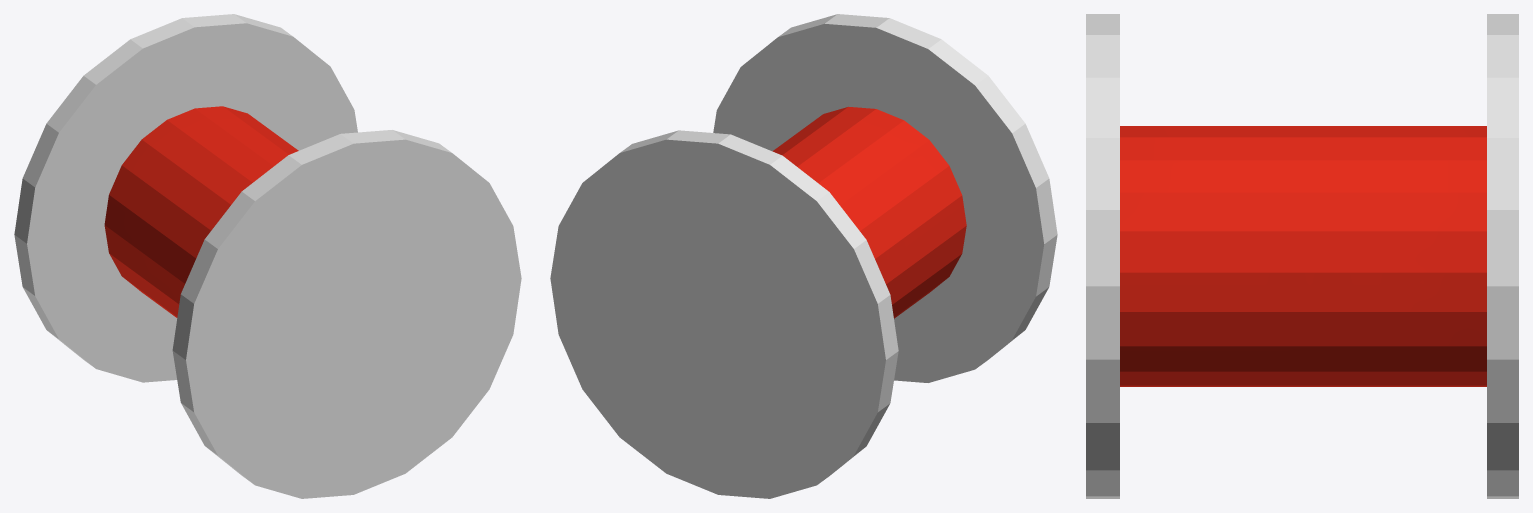
File: élément plastique.fbx
The picture shows the model from 3 angles, left to right: view 1: azimuth 30°, elevation 25°; view 2: azimuth 150°, elevation 25°; view 3: azimuth 270°, elevation 25°; orthographic projection. The views are drawn at different scales.
Visible parts, largest first — view 1: Cube.038; view 2: Cube.038; view 3: Cube.038.
Boxes of the visible parts, x1,y1,x2,y2 form: Cube.038: (14, 14, 521, 498); Cube.038: (550, 14, 1057, 498); Cube.038: (1086, 14, 1518, 498).
Bounding box in the file's own units: 60.75 × 53.79 × 60.75.
